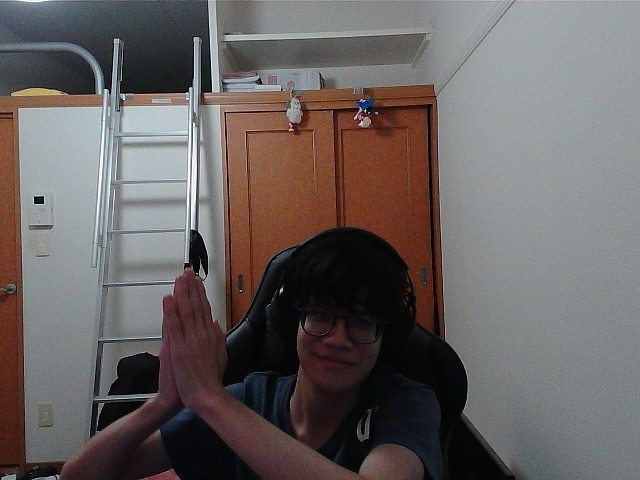pray: (171, 274, 224, 385)
